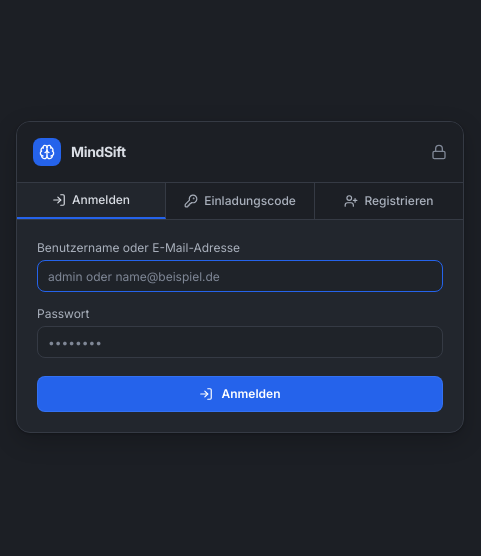
Test: SetupAndAuthView: new password typed twice when signing up › refuses a different repetition without asking the server and flags the field
Click the button "Registrieren": (389, 201) [315,183,463,219]
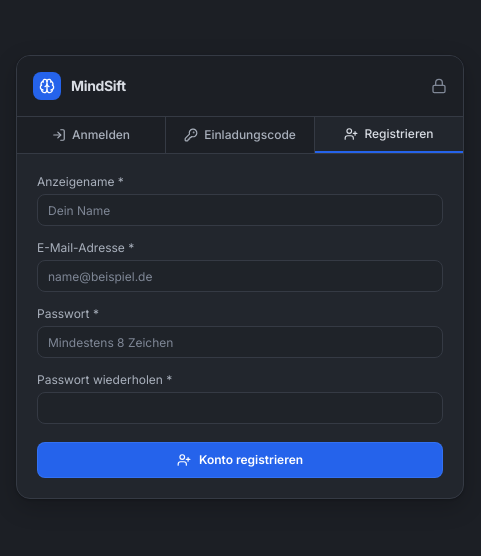
In the field labelled "Anzeigename *": (240, 210) [37,194,443,226], type "Bert"
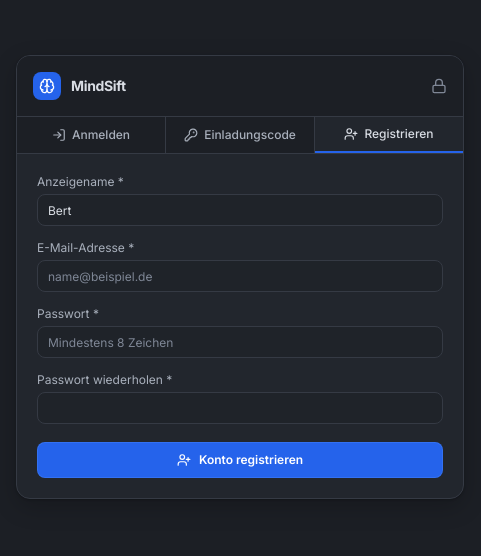
In the field labelled "E-Mail-Adresse *": (240, 276) [37,260,443,292], type "bert@beispiel.de"
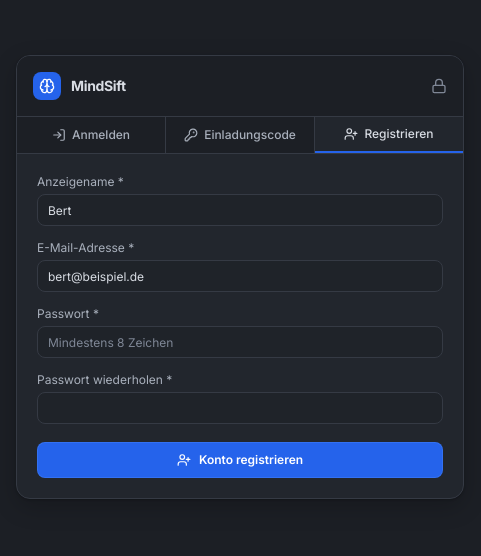
In the password field labelled "Passwort *": (240, 342) [37,326,443,358], type "geheimes-Passwort"
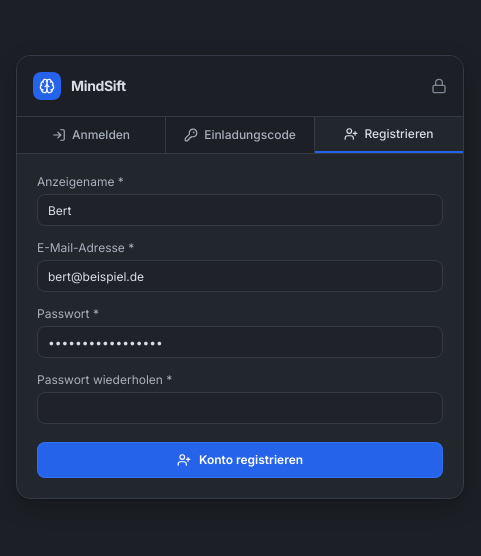
In the password field labelled "Passwort wiederholen *": (240, 408) [37,392,443,424], type "anderes-Passwort"
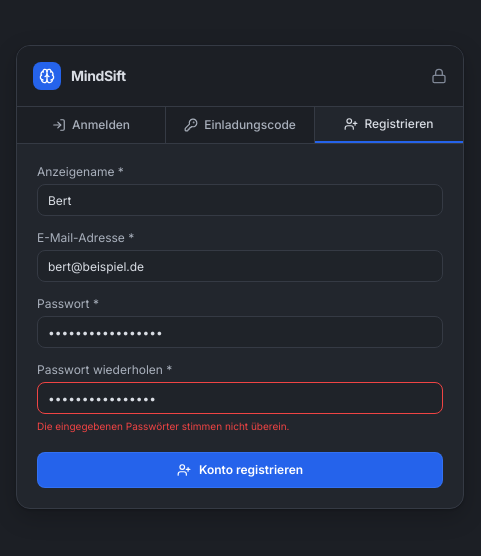
Click the button "Konto registrieren": (240, 470) [37,452,443,488]
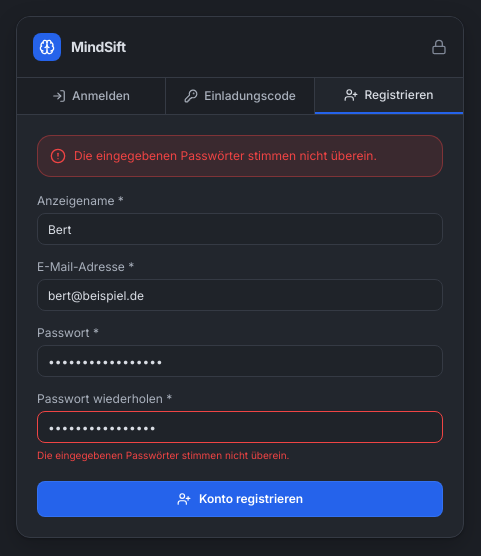
Result: the 1st text "Die eingegebenen Passwörter stimmen nicht überein." is shown at [74,148,430,164]
